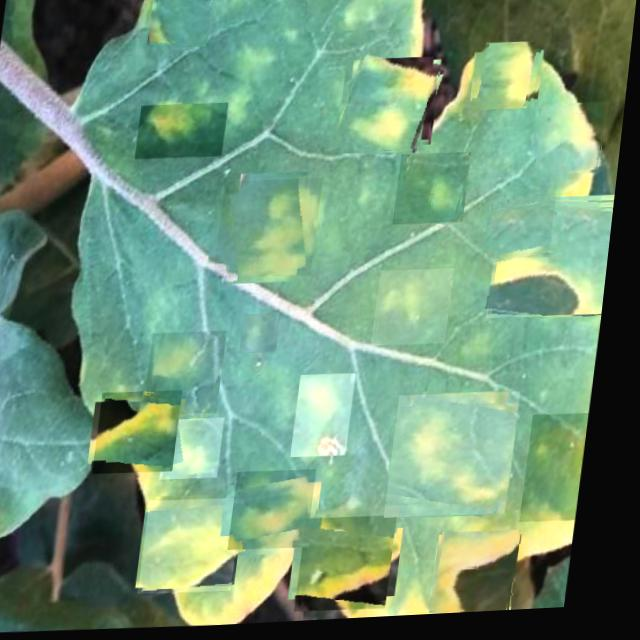leaf_spot: (396, 394, 530, 523), (493, 197, 620, 324), (219, 178, 328, 282), (338, 58, 444, 160), (151, 498, 254, 597), (308, 517, 410, 616), (443, 533, 533, 620), (103, 390, 192, 475), (532, 418, 599, 528), (241, 470, 328, 553), (152, 331, 235, 417), (379, 271, 461, 350), (398, 155, 475, 229), (301, 375, 366, 461), (138, 103, 231, 162), (538, 106, 612, 180), (493, 199, 561, 264), (476, 48, 542, 112), (170, 418, 234, 481), (304, 0, 413, 35), (149, 0, 212, 50), (247, 314, 288, 356)
